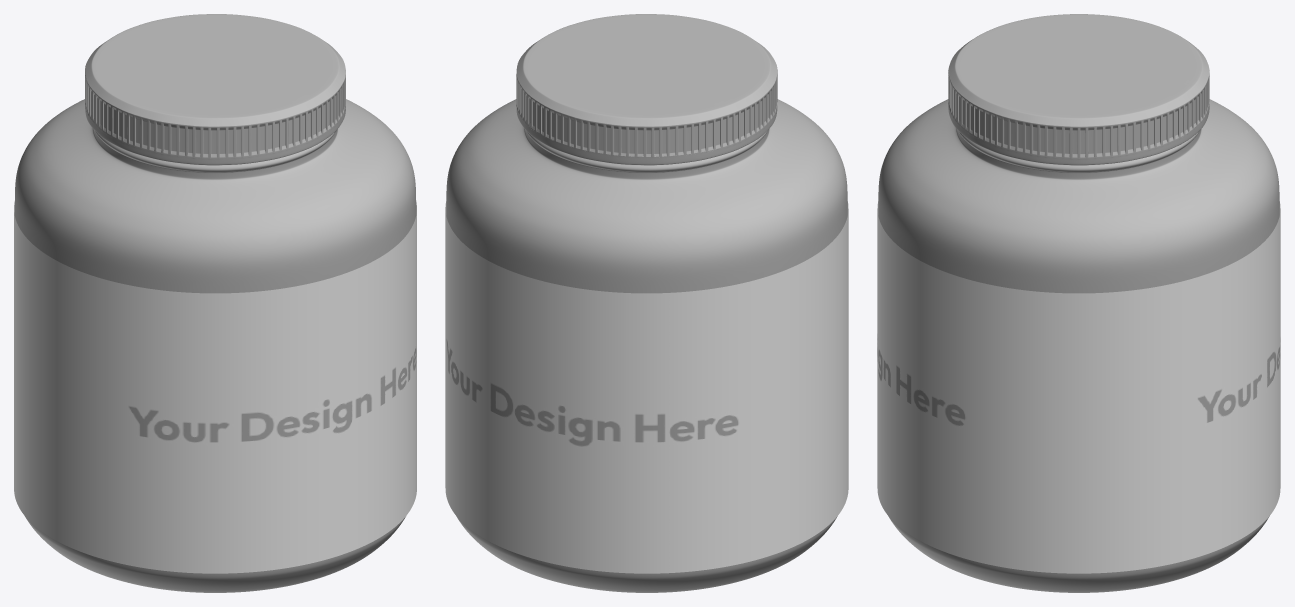
Rendered from Protein Supplement Jar  (3).glb.
3 views of the same model, side by side, from view 1: azimuth 30°, elevation 25°; view 2: azimuth 150°, elevation 25°; view 3: azimuth 270°, elevation 25° (orthographic).
Parts seen in each view (by area): view 1: Replacer-Label, Tub, Cap; view 2: Replacer-Label, Tub, Cap; view 3: Replacer-Label, Tub, Cap.
Boxes of the visible parts, bbox=[...] form: Replacer-Label: bbox=[14, 200, 416, 573]; Tub: bbox=[14, 99, 416, 592]; Cap: bbox=[85, 14, 345, 165]; Replacer-Label: bbox=[445, 201, 848, 573]; Tub: bbox=[446, 99, 847, 592]; Cap: bbox=[516, 14, 777, 165]; Replacer-Label: bbox=[877, 201, 1280, 573]; Tub: bbox=[878, 99, 1279, 592]; Cap: bbox=[948, 14, 1209, 165].
Bounding box in the file's own units: 1.08 × 1.35 × 1.08.
Materials: 3 (1 with a texture image).
